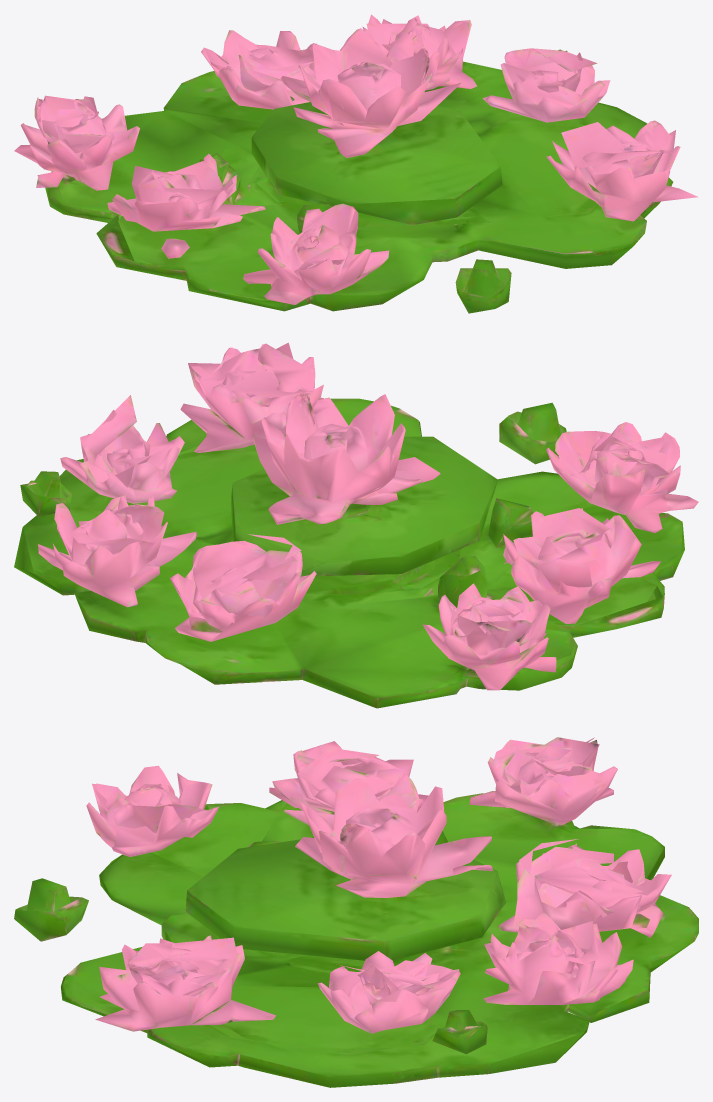
The model's file is lily_pads.glb.
3 views of the same model, one above another, from view 1: azimuth 30°, elevation 25°; view 2: azimuth 150°, elevation 25°; view 3: azimuth 270°, elevation 25° (orthographic). The views are drawn at different scales.
Visible parts, largest first — view 1: 0; view 2: 0; view 3: 0.
Part boxes in pixels (left/top/right/bottom): 0: left=14, top=14, right=698, bottom=313; 0: left=14, top=342, right=698, bottom=708; 0: left=14, top=737, right=698, bottom=1087.
Size of the model in its own units: 1.91 by 0.4579 by 1.89.
Materials: 1 (1 with a texture image).
